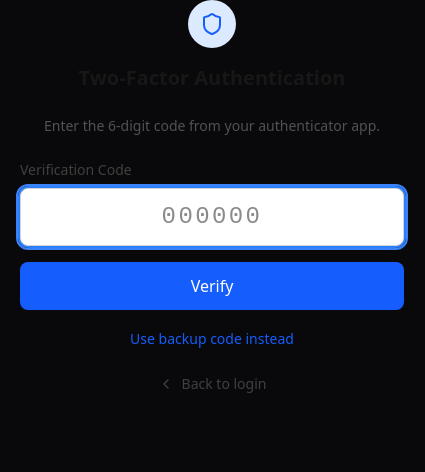
Test: TwoFactorVerify › code input › shows validation error for incomplete code
Type "123" into the field labelled "Verification Code" at coordinates (212, 217), box [20,188,404,246]
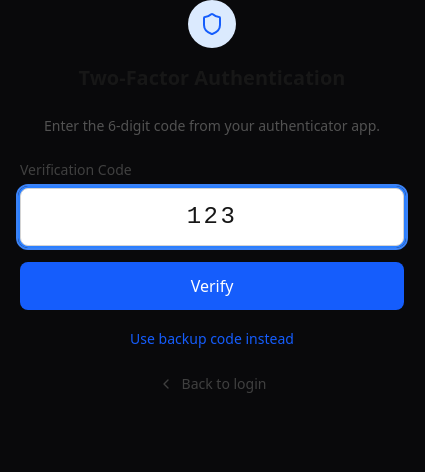
Click the button "Verify" at coordinates (212, 286), box [20,262,404,310]
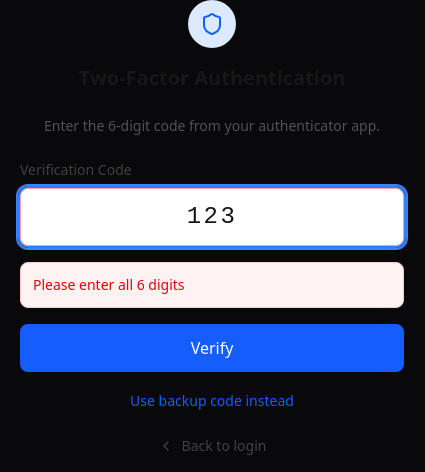
Check: the text "Please enter all 6 digits" is shown, box [33,275,185,294]
